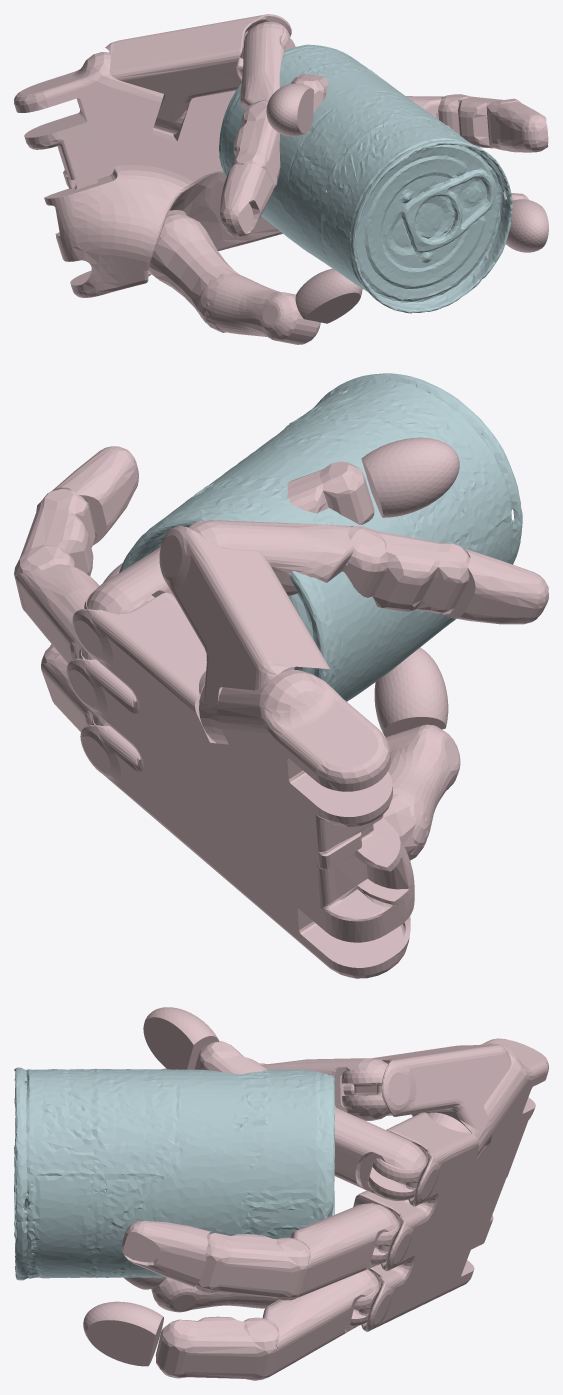
File: grasp_8.glb
3 views of the same model, one above another, from view 1: azimuth 30°, elevation 25°; view 2: azimuth 150°, elevation 25°; view 3: azimuth 270°, elevation 25° (orthographic). The views are drawn at different scales.
Parts seen in each view (by area): view 1: world; view 2: world; view 3: world.
Part boxes in pixels (x1,y1,x2,y2): world: (14,14,548,344); world: (14,373,548,978); world: (14,1007,548,1380).
Size of the model in its own units: 0.159 by 0.1098 by 0.1697.
